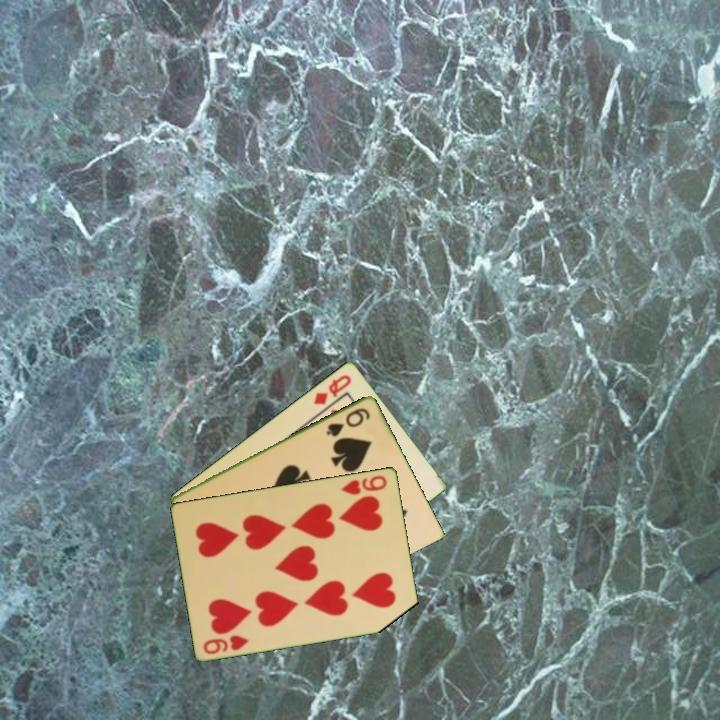6s: (323, 404, 373, 439)
9h: (200, 631, 252, 657), (338, 472, 390, 497)
Qd: (310, 370, 355, 407)
